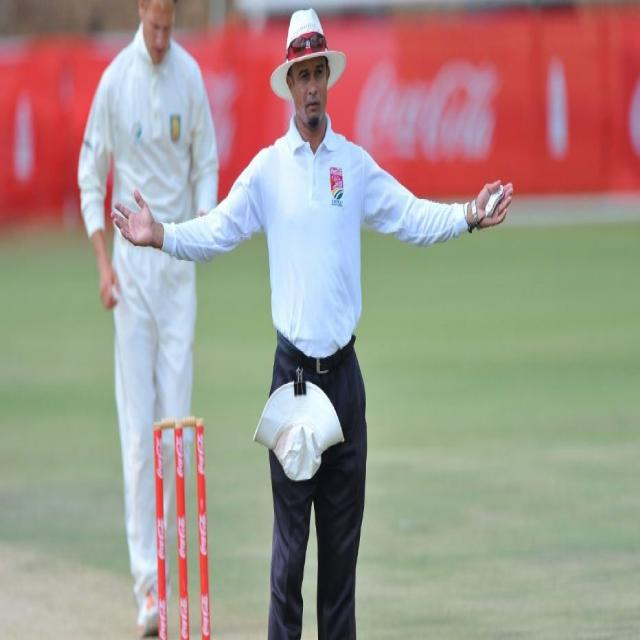Wide: (115, 0, 520, 345)
